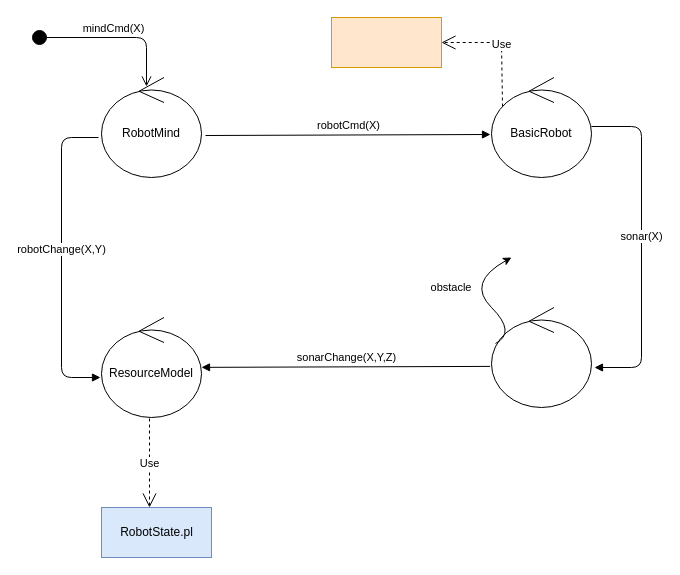
The diagram is 680 pixels wide and 575 high, and some of its shapes have lost their labels. Each missing label, with the box of its shape:
ObstacleDetector: (490, 306, 592, 408)
robotSupport: (330, 16, 442, 68)
